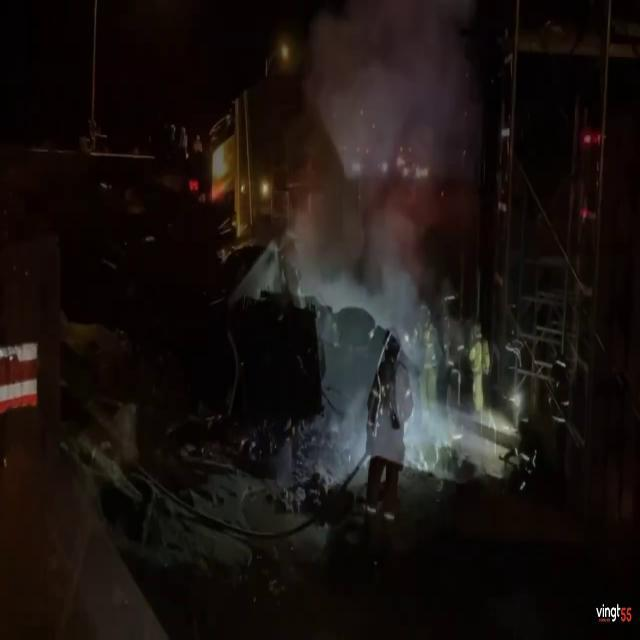Smoke: (276, 0, 476, 318)
